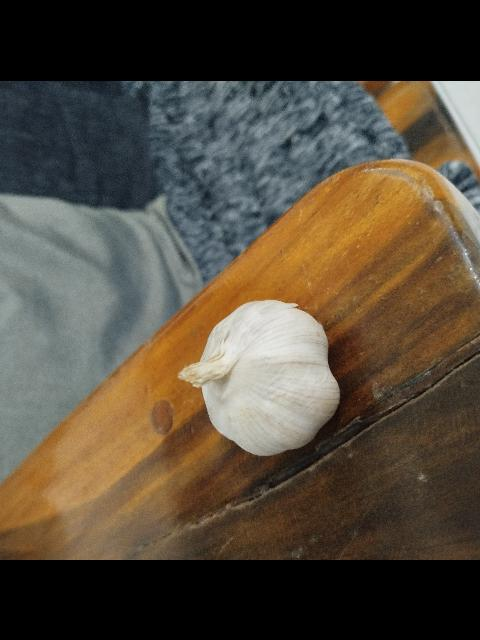garlic: (177, 298, 341, 456)
